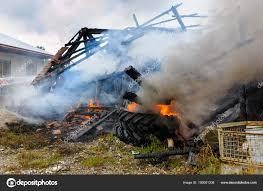fire: (154, 98, 179, 116), (125, 101, 139, 111)
